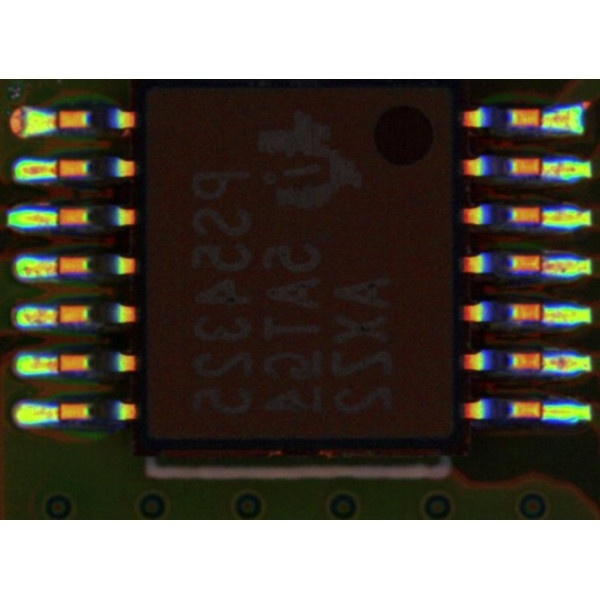Bad_podu: (42, 261, 68, 272), (534, 255, 550, 271), (45, 164, 68, 175), (535, 208, 549, 226), (45, 359, 70, 369)
